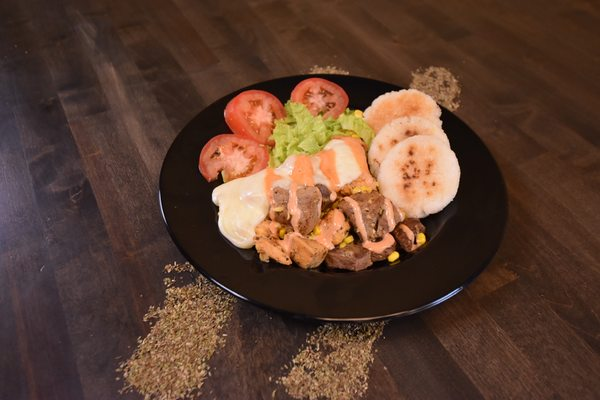sushi: (155, 59, 510, 320)
